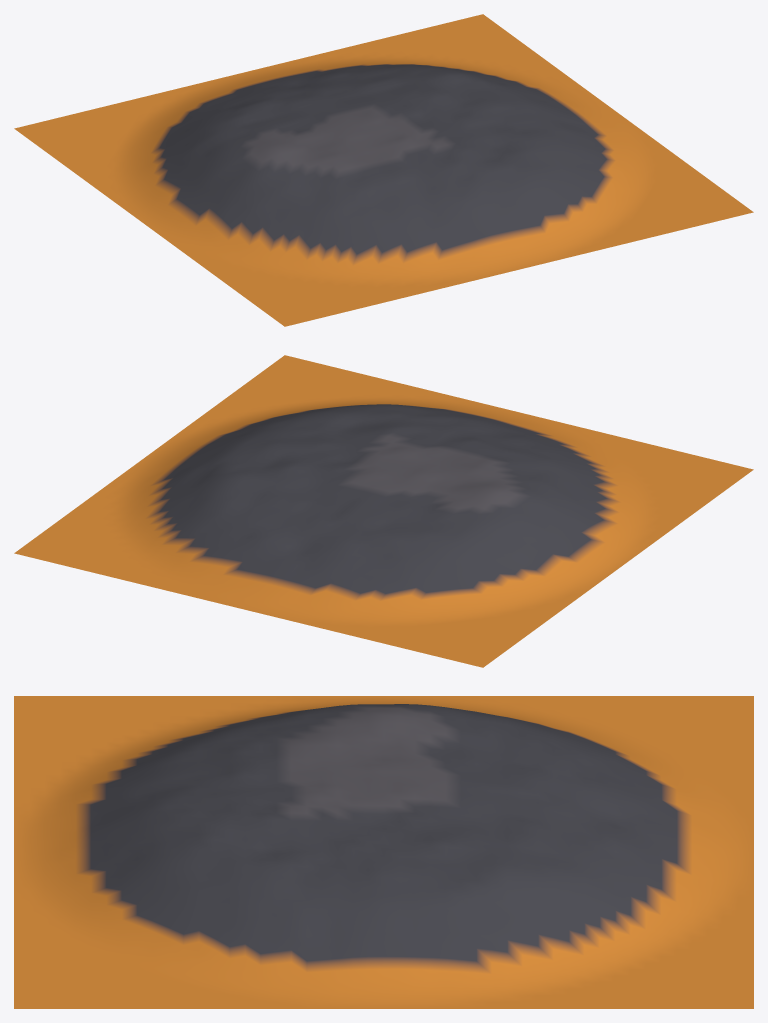
The model's file is terrain_volcanic.glb.
3 renders of one model, top to bottom at view 1: azimuth 30°, elevation 25°; view 2: azimuth 150°, elevation 25°; view 3: azimuth 270°, elevation 25°, orthographic. The views are drawn at different scales.
Visible parts, largest first — view 1: terrain_volcanic; view 2: terrain_volcanic; view 3: terrain_volcanic.
Boxes of the visible parts, x1,y1,x2,y2 form: terrain_volcanic: (14, 14, 753, 326); terrain_volcanic: (14, 355, 753, 667); terrain_volcanic: (14, 696, 753, 1008).
Bounding box in the file's own units: 80 × 7.79 × 80.
